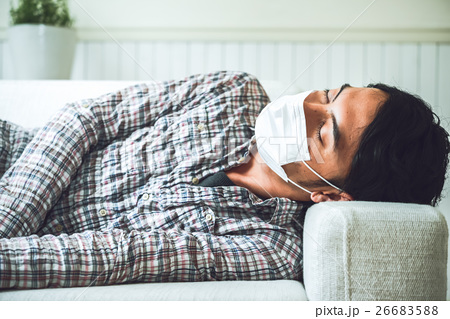mask: (255, 91, 312, 173)
